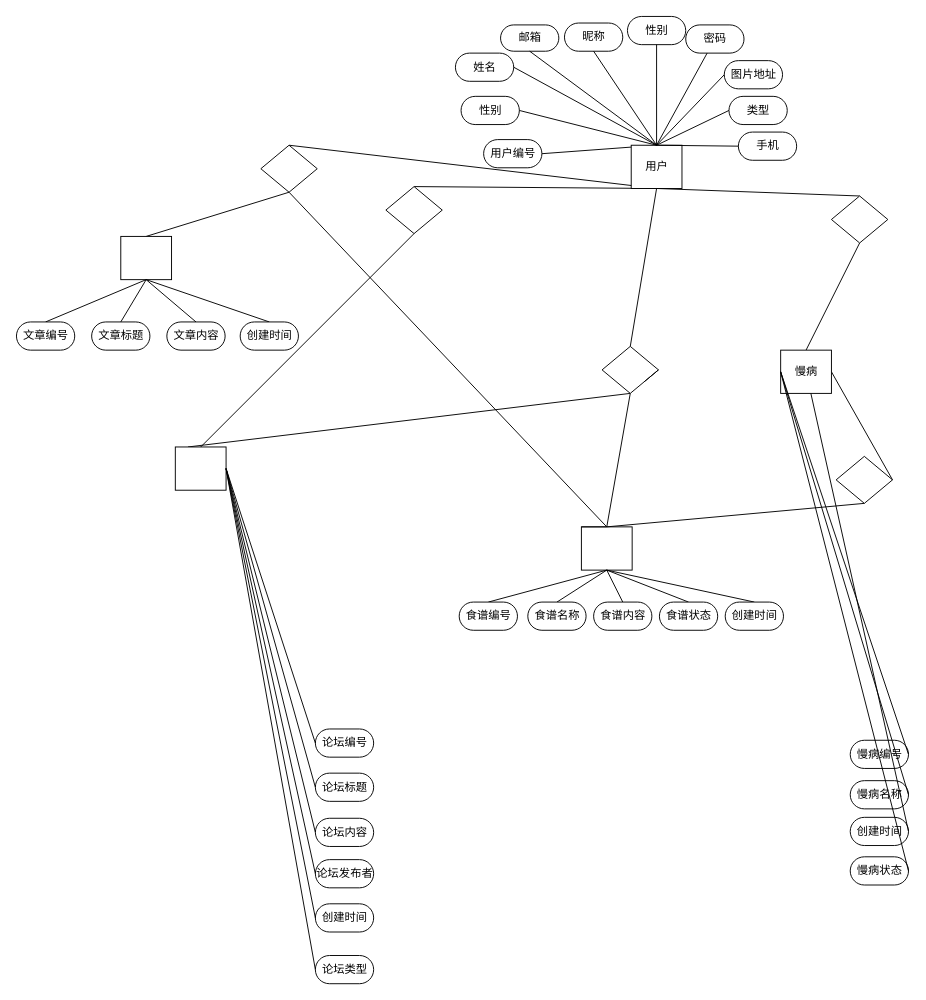
The diagram is 926 pixels wide and 1000 high, and some of its shapes have lost their labels. Here are the shapes that lost their labels. From the top down, the centre of each, then its label:
At point (288, 168): "收藏".
At point (413, 210): "发布".
At point (859, 219): "选择".
At point (146, 257): "文章".
At point (629, 369): "评论".
At point (200, 468): "论坛".
At point (864, 479): "推荐".
At point (606, 548): "食谱".
